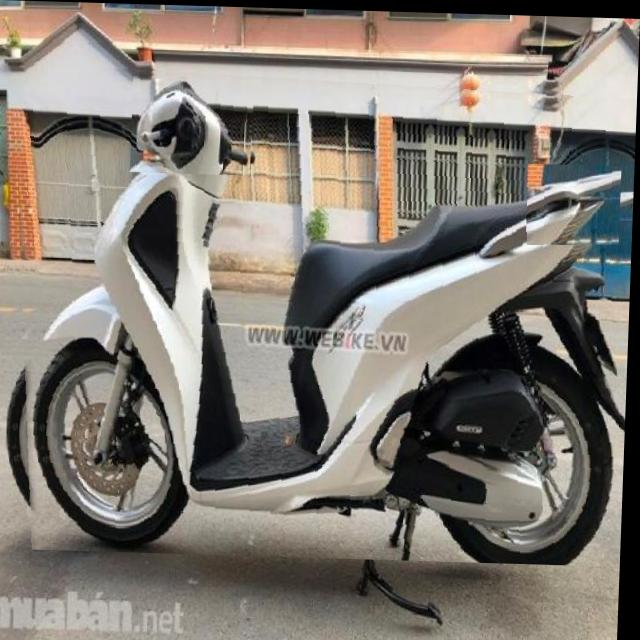All: (0, 62, 638, 563)
Head: (131, 75, 255, 174)
Tail: (526, 160, 623, 244)
